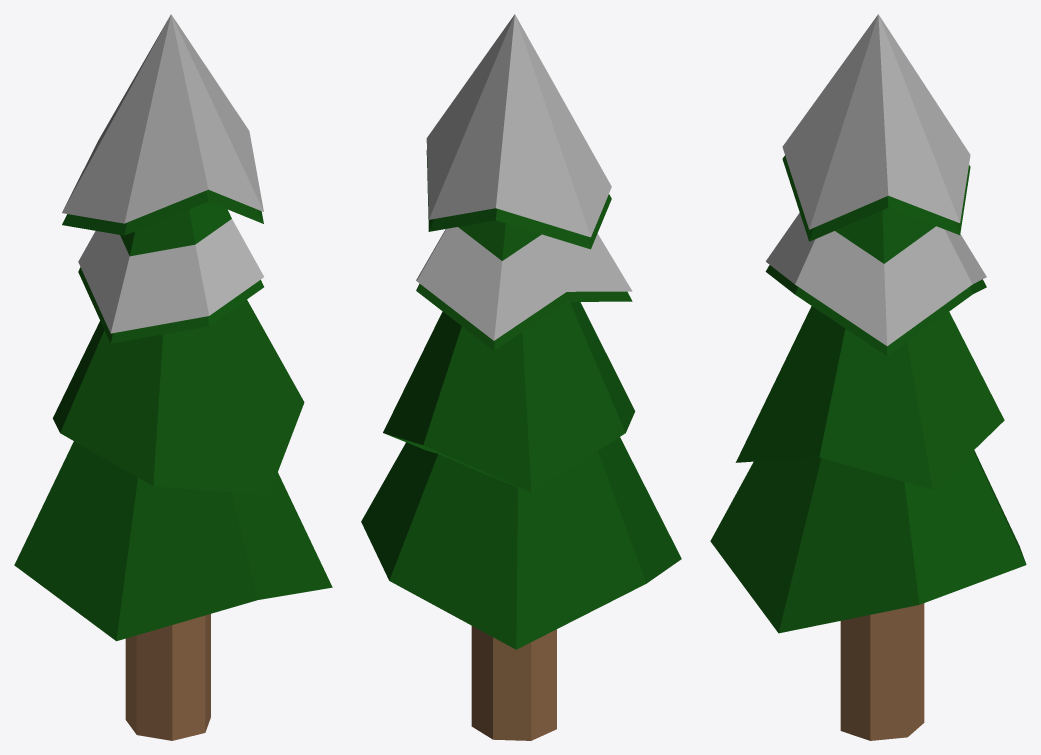
The model's file is Fir_1 Winter.fbx.
The picture shows the model from 3 angles, left to right: view 1: azimuth 30°, elevation 25°; view 2: azimuth 150°, elevation 25°; view 3: azimuth 270°, elevation 25°; orthographic projection.
Visible parts, largest first — view 1: FirWinter_mesh; view 2: FirWinter_mesh; view 3: FirWinter_mesh.
Boxes of the visible parts, bbox=[...] form: FirWinter_mesh: bbox=[14, 14, 332, 740]; FirWinter_mesh: bbox=[361, 14, 681, 740]; FirWinter_mesh: bbox=[710, 14, 1026, 740].
Bounding box in the file's own units: 261 × 636 × 257.
